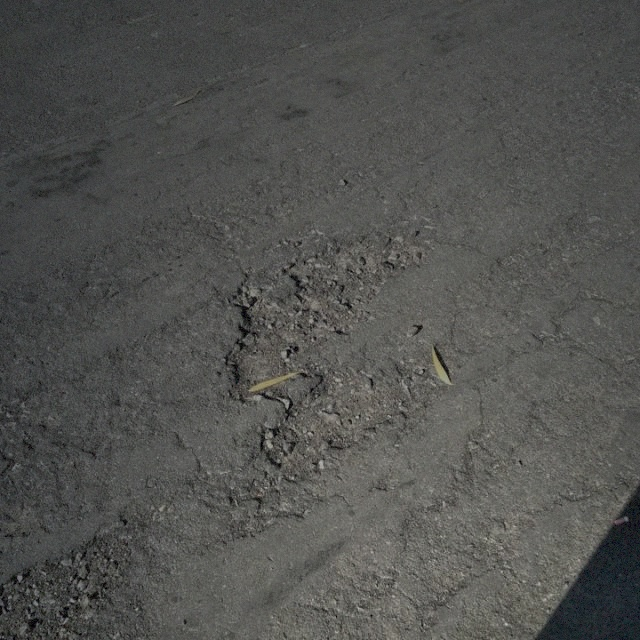pothole: (216, 232, 447, 474), (0, 528, 139, 638)
